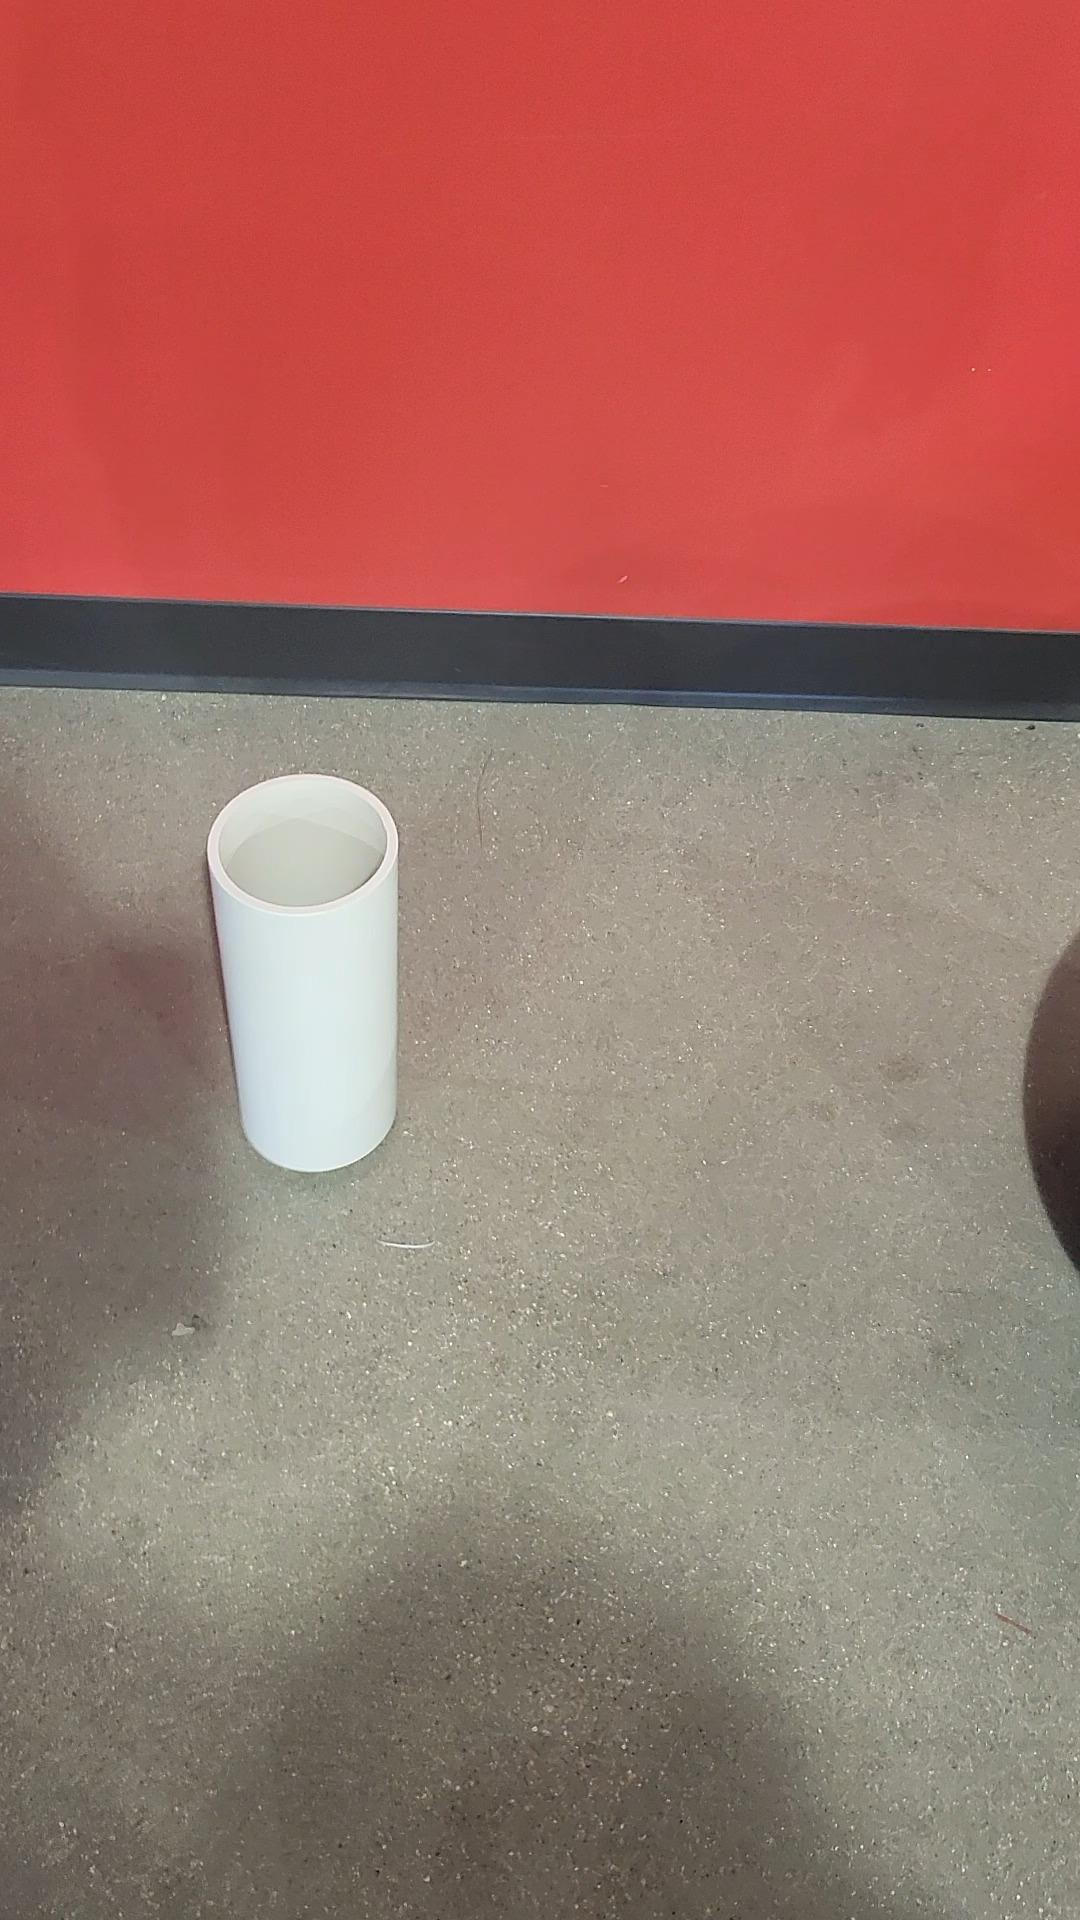coral: (206, 775, 394, 1164)
